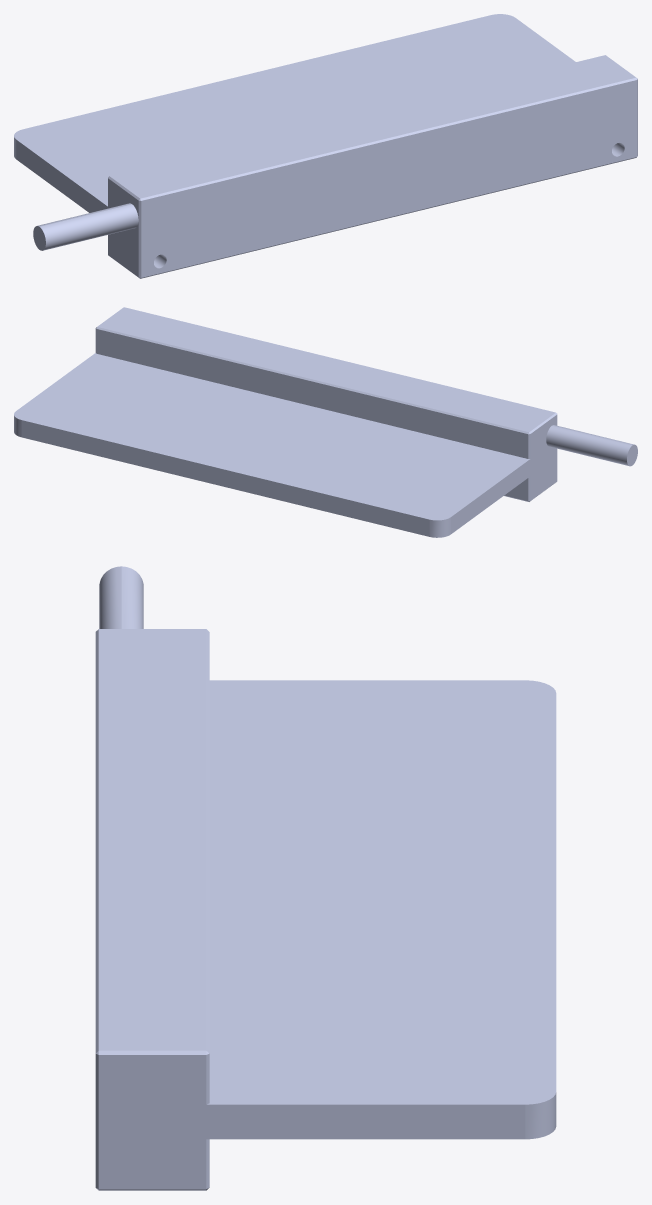
The model's file is MUF-6.glb.
The picture shows the model from 3 angles, top to bottom: view 1: azimuth 30°, elevation 25°; view 2: azimuth 150°, elevation 25°; view 3: azimuth 270°, elevation 25°; orthographic projection. The views are drawn at different scales.
Visible parts, largest first — view 1: MUF-6N_node; view 2: MUF-6N_node; view 3: MUF-6N_node.
Part boxes in pixels (<box>): MUF-6N_node: <box>14,14,637,278</box>; MUF-6N_node: <box>14,307,637,537</box>; MUF-6N_node: <box>95,566,556,1190</box>.
Bounding box in the file's own units: 115 × 14.9 × 44.5.
